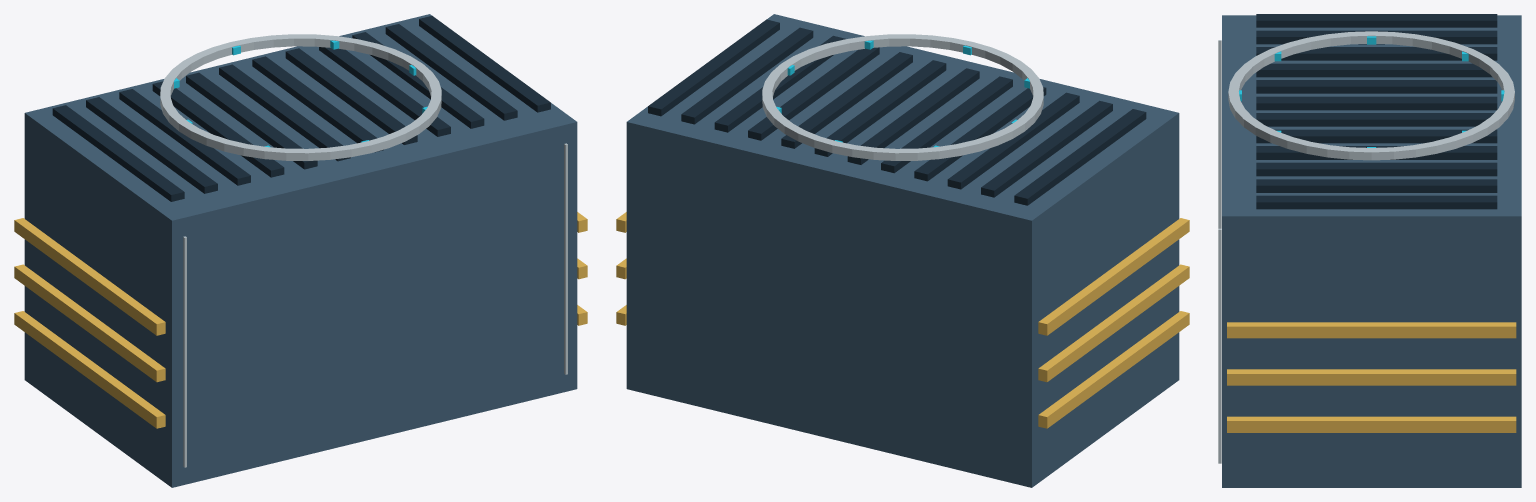
The model's file is 04_L83_SpacecraftServiceBusStructure.fbx.
3 views of the same model, side by side, from view 1: azimuth 30°, elevation 25°; view 2: azimuth 150°, elevation 25°; view 3: azimuth 270°, elevation 25° (orthographic).
Visible parts, largest first — view 1: SpacecraftServiceBusStructure, SpacecraftServiceBusStructure_Part_0027; view 2: SpacecraftServiceBusStructure, SpacecraftServiceBusStructure_Part_0027; view 3: SpacecraftServiceBusStructure, SpacecraftServiceBusStructure_Part_0027.
Boxes of the visible parts, x1=… form: SpacecraftServiceBusStructure: x1=14, y1=14, x2=587, y2=487; SpacecraftServiceBusStructure_Part_0027: x1=160, y1=34, x2=441, y2=160; SpacecraftServiceBusStructure: x1=616, y1=14, x2=1189, y2=487; SpacecraftServiceBusStructure_Part_0027: x1=762, y1=34, x2=1043, y2=160; SpacecraftServiceBusStructure: x1=1218, y1=14, x2=1521, y2=487; SpacecraftServiceBusStructure_Part_0027: x1=1228, y1=31, x2=1514, y2=160.
Bounding box in the file's own units: 388 × 250 × 233.
